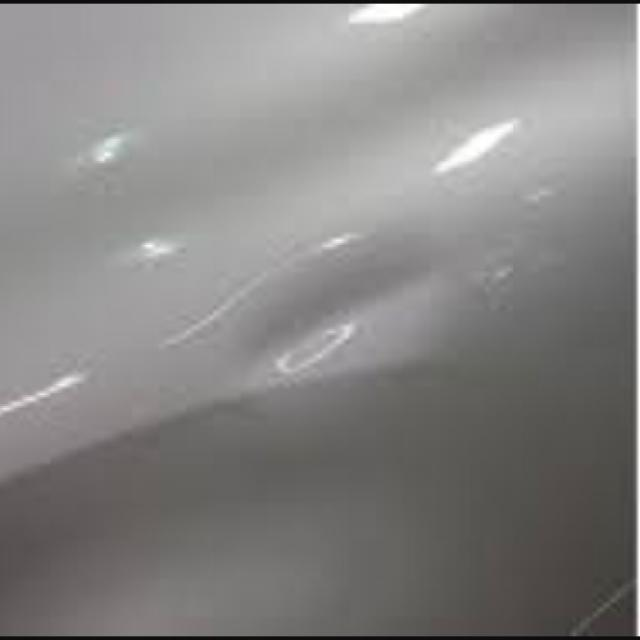dents: (238, 277, 450, 402)
